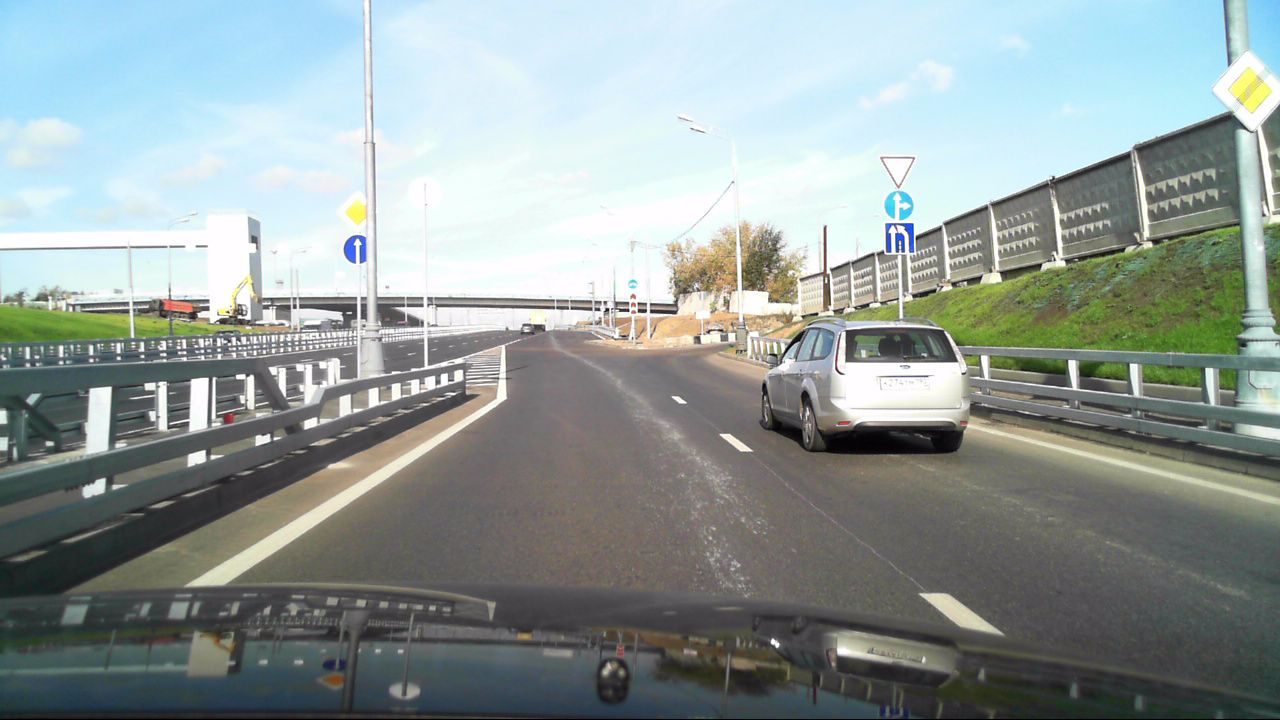main road: (1211, 51, 1279, 134)
